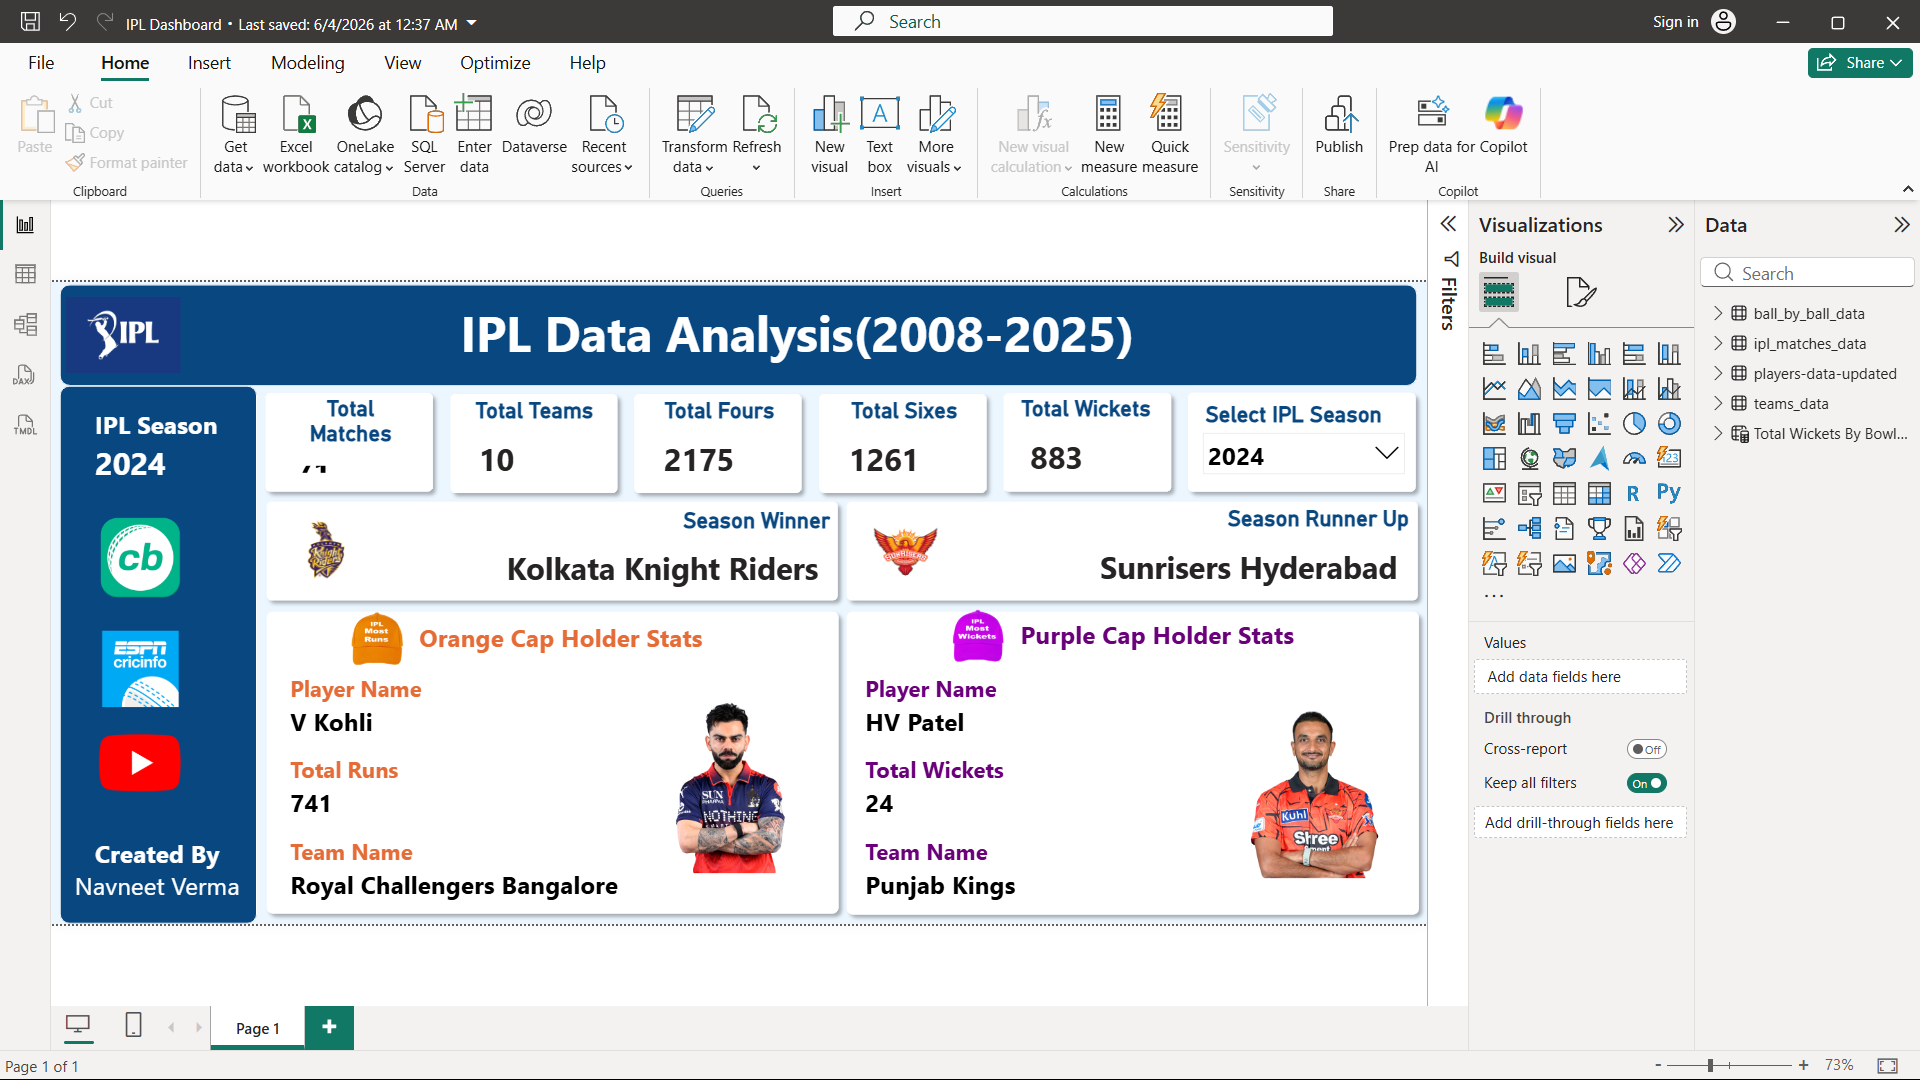

Layout of this report page (visuals, bound fields, positions):
{"tool":"powerbi","page":{"name":"Page 1","canvas":[1500,700],"ordinal":0},"visuals":[{"type":"shape","box":[9.8,2.8,1479.8,110.6],"z":0},{"type":"image","box":[16.8,8.4,124.6,99.4],"z":1000},{"type":"textbox","box":[296.8,14,1033.2,88.2],"z":2000},{"type":"shape","box":[8.9,113.7,215,586.5],"z":3000},{"type":"shape","box":[1230.6,111.3,266.1,125.8],"z":4000},{"type":"slicer","fields":{"Values":["ipl_matches_data.season_id"]},"box":[1245.2,125.8,240.3,98.4],"z":5000},{"type":"cardVisual","fields":{"Data":["ipl_matches_data.Selected Season"]},"box":[19.4,121,193.5,112.9],"z":6000},{"type":"shape","box":[225.3,111.3,200,125.8],"z":7000},{"type":"shape","box":[426.3,112.9,200,125.8],"z":8000},{"type":"shape","box":[627.4,112.9,200,125.8],"z":9000},{"type":"shape","box":[828.5,112.9,200,125.8],"z":10000},{"type":"shape","box":[1029.6,111.3,200,125.8],"z":11000},{"type":"cardVisual","title":"Total Matches","fields":{"Data":["ipl_matches_data.Total Matches Count"]},"box":[237.1,124.2,179,101.6],"z":12000},{"type":"cardVisual","title":"Total Teams","fields":{"Data":["ipl_matches_data.Total Teams Count"]},"box":[437.1,125.8,179,101.6],"z":13000},{"type":"cardVisual","title":"Total Fours","fields":{"Data":["ball_by_ball_data.Total Fours Count"]},"box":[638.7,125.8,179,101.6],"z":14000},{"type":"cardVisual","title":"Total Sixes","fields":{"Data":["ball_by_ball_data.Total Sixes Count"]},"box":[840.3,125.8,179,101.6],"z":15000},{"type":"cardVisual","title":"Total Wickets","fields":{"Data":["ball_by_ball_data.Total Wickets Count"]},"box":[1038.7,124.2,179,101.6],"z":16000},{"type":"shape","box":[225.8,230.6,640.3,125.8],"z":17000},{"type":"shape","box":[858.1,230.6,640.3,125.8],"z":18000},{"type":"cardVisual","title":"Season Winner","fields":{"Data":["ipl_matches_data.Season Winner Team Name"]},"box":[362.9,245.2,491.9,100],"z":19000},{"type":"cardVisual","title":"Season Runner Up","fields":{"Data":["ipl_matches_data.Season Runner Up Team Name"]},"box":[993.5,243.5,491.9,100],"z":20000},{"type":"cardVisual","fields":{"Data":["ipl_matches_data.Season Winner Team Logo"]},"box":[237.1,235.5,125.8,111.3],"z":21000},{"type":"cardVisual","fields":{"Data":["ipl_matches_data.Season Runner Up Team Logo"]},"box":[867.7,238.7,127.4,111.3],"z":22000},{"type":"shape","box":[226.8,350,641.2,347.2],"z":23000},{"type":"shape","box":[858.4,350.1,641.6,348.3],"z":24000},{"type":"image","box":[314.5,358.1,82.3,61.3],"z":25000},{"type":"image","box":[970.4,355.5,81.8,60.4],"z":26000},{"type":"textbox","box":[396.5,363.9,333,46.5],"z":27000},{"type":"textbox","box":[1052.1,360.8,332.3,46.2],"z":28000},{"type":"cardVisual","fields":{"Data":["ball_by_ball_data.Orange Cap Holder Player Name","ball_by_ball_data.Orange Cap Holder Total Runs","ball_by_ball_data.Orange Cap Holder Team Name"]},"box":[243.9,415.2,395.5,269.7],"z":29000},{"type":"cardVisual","fields":{"Data":["ball_by_ball_data.Orange Cap Holder Player Image"]},"box":[625.8,415.2,227.3,265.2],"z":30000},{"type":"cardVisual","fields":{"Data":["ball_by_ball_data.Puple Cap Holder Player Name","ball_by_ball_data.Puple Cap Holder Total Wickets","ball_by_ball_data.Puple Cap Holder Team Name"]},"box":[870.9,415.9,394.5,270.1],"z":31000},{"type":"cardVisual","fields":{"Data":["ball_by_ball_data.Purple Cap Holder Player Image"]},"box":[1261.8,421.2,227.5,264.8],"z":32000},{"type":"image","box":[35.5,255.9,124.4,88.9],"z":33000},{"type":"image","box":[8.9,380.3,175.9,83.5],"z":34000},{"type":"image","box":[51.5,476.3,90.6,94.2],"z":35000},{"type":"textbox","box":[19.5,598.9,193.7,85.3],"z":36000}]}

Visuals, with their boxes on the page's 1500x700 design canvas (x1, y1, x2, y2). These are canvas units, not pixel positions in the 1920x1080 screenshot, which may show the page scaled, cropped or inside an application window:
shape: box=[10, 3, 1490, 113]
image: box=[17, 8, 141, 108]
textbox: box=[297, 14, 1330, 102]
shape: box=[9, 114, 224, 700]
shape: box=[1231, 111, 1497, 237]
slicer - ipl_matches_data.season_id: box=[1245, 126, 1486, 224]
cardVisual - ipl_matches_data.Selected Season: box=[19, 121, 213, 234]
shape: box=[225, 111, 425, 237]
shape: box=[426, 113, 626, 239]
shape: box=[627, 113, 827, 239]
shape: box=[828, 113, 1028, 239]
shape: box=[1030, 111, 1230, 237]
"Total Matches" cardVisual: box=[237, 124, 416, 226]
"Total Teams" cardVisual: box=[437, 126, 616, 227]
"Total Fours" cardVisual: box=[639, 126, 818, 227]
"Total Sixes" cardVisual: box=[840, 126, 1019, 227]
"Total Wickets" cardVisual: box=[1039, 124, 1218, 226]
shape: box=[226, 231, 866, 356]
shape: box=[858, 231, 1498, 356]
"Season Winner" cardVisual: box=[363, 245, 855, 345]
"Season Runner Up" cardVisual: box=[994, 244, 1485, 344]
cardVisual - ipl_matches_data.Season Winner Team Logo: box=[237, 236, 363, 347]
cardVisual - ipl_matches_data.Season Runner Up Team Logo: box=[868, 239, 995, 350]
shape: box=[227, 350, 868, 697]
shape: box=[858, 350, 1500, 698]
image: box=[314, 358, 397, 419]
image: box=[970, 356, 1052, 416]
textbox: box=[396, 364, 730, 410]
textbox: box=[1052, 361, 1384, 407]
cardVisual - ball_by_ball_data.Orange Cap Holder Player Name x ball_by_ball_data.Orange Cap Holder Total Runs: box=[244, 415, 639, 685]
cardVisual - ball_by_ball_data.Orange Cap Holder Player Image: box=[626, 415, 853, 680]
cardVisual - ball_by_ball_data.Puple Cap Holder Player Name x ball_by_ball_data.Puple Cap Holder Total Wickets: box=[871, 416, 1265, 686]
cardVisual - ball_by_ball_data.Purple Cap Holder Player Image: box=[1262, 421, 1489, 686]
image: box=[36, 256, 160, 345]
image: box=[9, 380, 185, 464]
image: box=[52, 476, 142, 570]
textbox: box=[20, 599, 213, 684]
